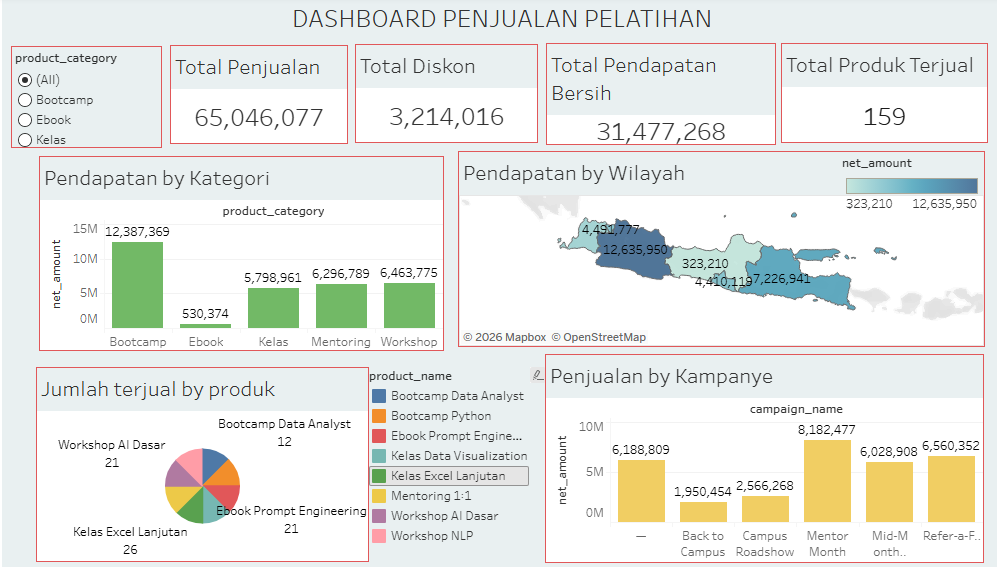

The dashboard page shown, as its layout file describes it:
{"tool":"tableau","page":{"name":"Dashboard 1","canvas":[1000,800],"ordinal":0},"visuals":[{"type":"title","box":[8,8,984,42]},{"type":"worksheet","title":"Total Pendapatan Bersih","mark":"Automatic","box":[544,54,230,102]},{"type":"worksheet","title":"Total Produk Terjual","mark":"Automatic","box":[779,54,207,100]},{"type":"worksheet","title":"Total Diskon","mark":"Automatic","box":[353,55,183,99]},{"type":"worksheet","title":"Total Penjualan","mark":"Automatic","box":[168,56,178,99]},{"type":"filter","title":"Total Penjualan","param":"[federated.12bw07r1ejk2dh13oi6du0czl0xo].[none:product_category:nk]","box":[9,57,151,102]},{"type":"worksheet","title":"Pendapatan by Wilayah","mark":"Automatic","box":[456,162,527,196]},{"type":"legend","title":"Pendapatan by Wilayah","param":"[federated.12bw07r1ejk2dh13oi6du0czl0xo].[sum:net_amount:qk]","box":[840,165,140,76]},{"type":"worksheet","title":"Pendapatan by Kategori","mark":"Bar","rows":["net_amount"],"cols":["product_category"],"box":[37,167,405,195]},{"type":"worksheet","title":"Penjualan by Kampanye","mark":"Automatic","rows":["net_amount"],"cols":["campaign_name"],"box":[543,365,439,209]},{"type":"worksheet","title":"Jumlah terjual by produk","mark":"Pie","box":[34,378,333,195]},{"type":"legend","title":"Jumlah terjual by produk","param":"[federated.12bw07r1ejk2dh13oi6du0czl0xo].[none:product_name:nk]","box":[367,378,177,178]}]}

Visuals, with their boxes on the page's 1000x800 design canvas (x1, y1, x2, y2). These are canvas units, not pixel positions in the 997x567 screenshot, which may show the page scaled, cropped or inside an application window:
title: box=[8, 8, 992, 50]
"Total Pendapatan Bersih" worksheet: box=[544, 54, 774, 156]
"Total Produk Terjual" worksheet: box=[779, 54, 986, 154]
"Total Diskon" worksheet: box=[353, 55, 536, 154]
"Total Penjualan" worksheet: box=[168, 56, 346, 155]
"Total Penjualan" filter: box=[9, 57, 160, 159]
"Pendapatan by Wilayah" worksheet: box=[456, 162, 983, 358]
"Pendapatan by Wilayah" legend: box=[840, 165, 980, 241]
"Pendapatan by Kategori" worksheet (Bar marks): box=[37, 167, 442, 362]
"Penjualan by Kampanye" worksheet: box=[543, 365, 982, 574]
"Jumlah terjual by produk" worksheet (Pie marks): box=[34, 378, 367, 573]
"Jumlah terjual by produk" legend: box=[367, 378, 544, 556]
